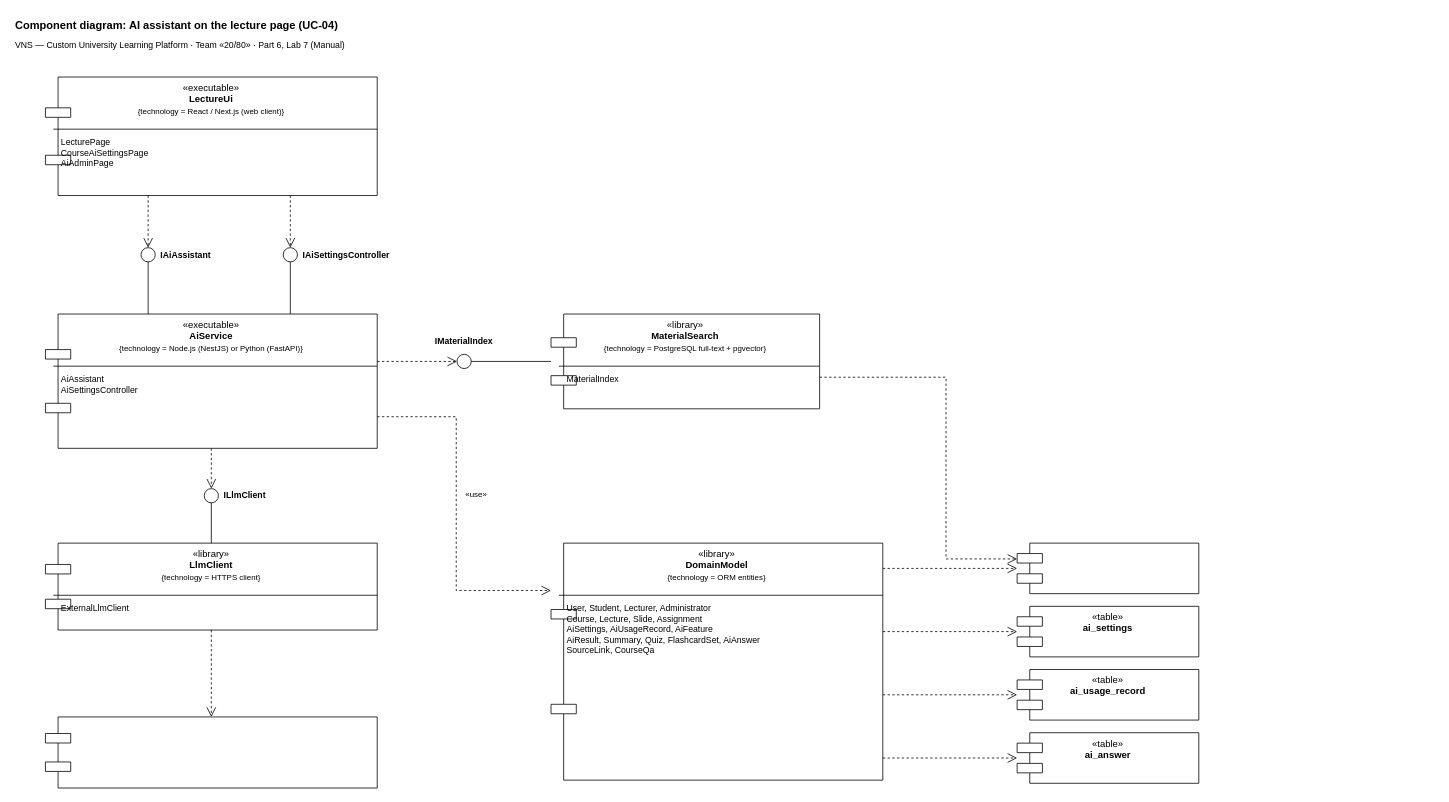
The diagram is 1449 pixels wide and 802 high, and some of its shapes have lost their labels. The shapes that lost their labels are listed below. From the top down, each one's centre as x and y in pixels, then its label:
point (1107, 568): «table» slide
point (211, 752): «external system» LLM API
